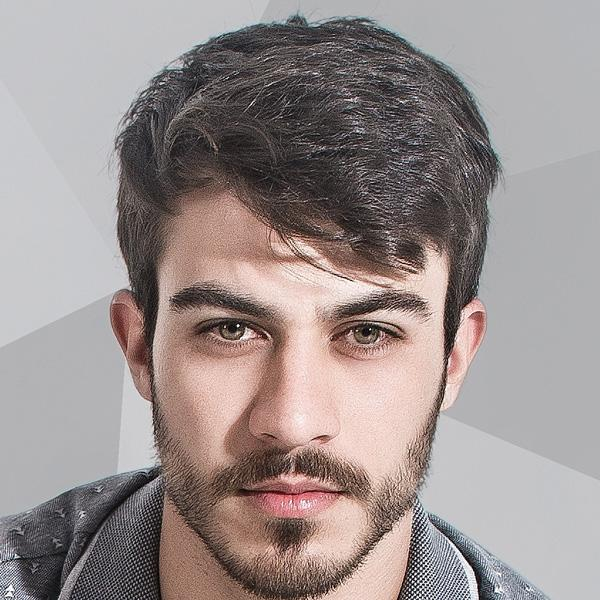Eyes: (185, 309, 275, 358), (324, 313, 412, 360)
